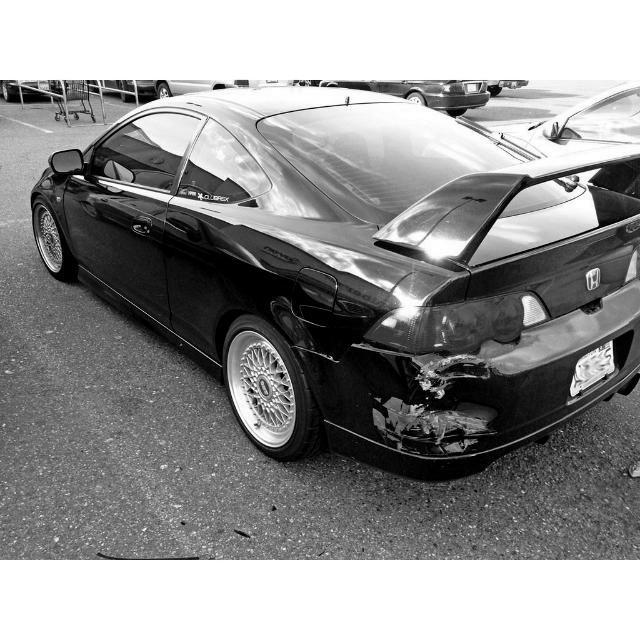rear-bumper-dent: (332, 361, 566, 471)
